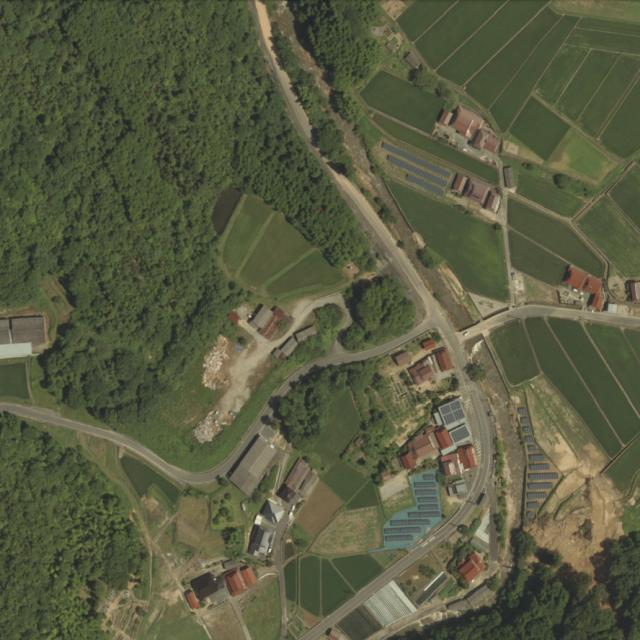landslide: (525, 378, 625, 575)
